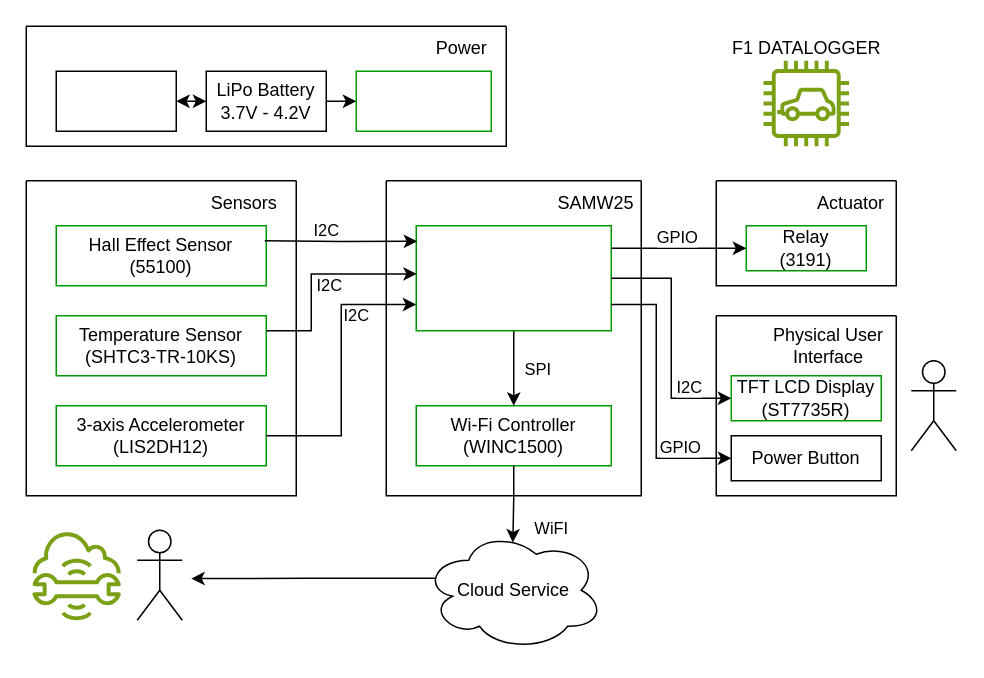
Some shapes in this 984 by 678 pixel diagram are drawn without their labels. Here are the shapes that lost their labels. From the top down, the box of each, then its label:
(55, 70, 176, 131): Battery Charger
(355, 70, 491, 131): Buck Convertor 3.3V
(415, 224, 611, 331): SAMD21
(910, 359, 956, 451): Driver
(136, 529, 182, 620): Race Engineer
